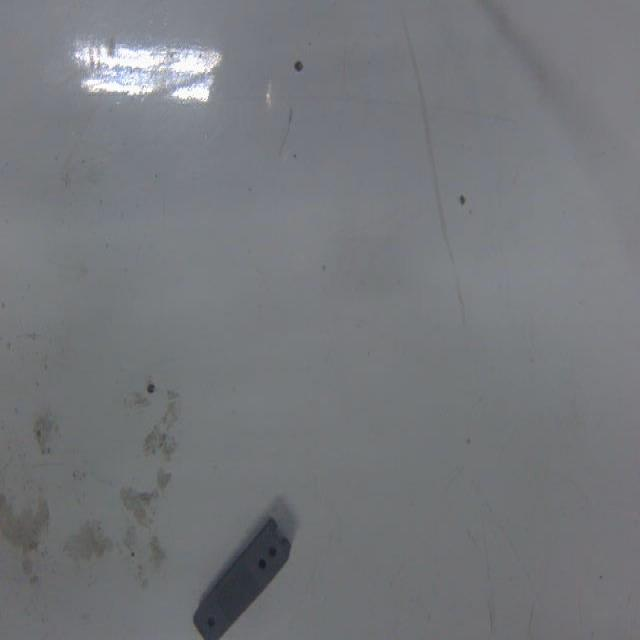grey: (193, 514, 288, 640)
head: (205, 615, 217, 628)
